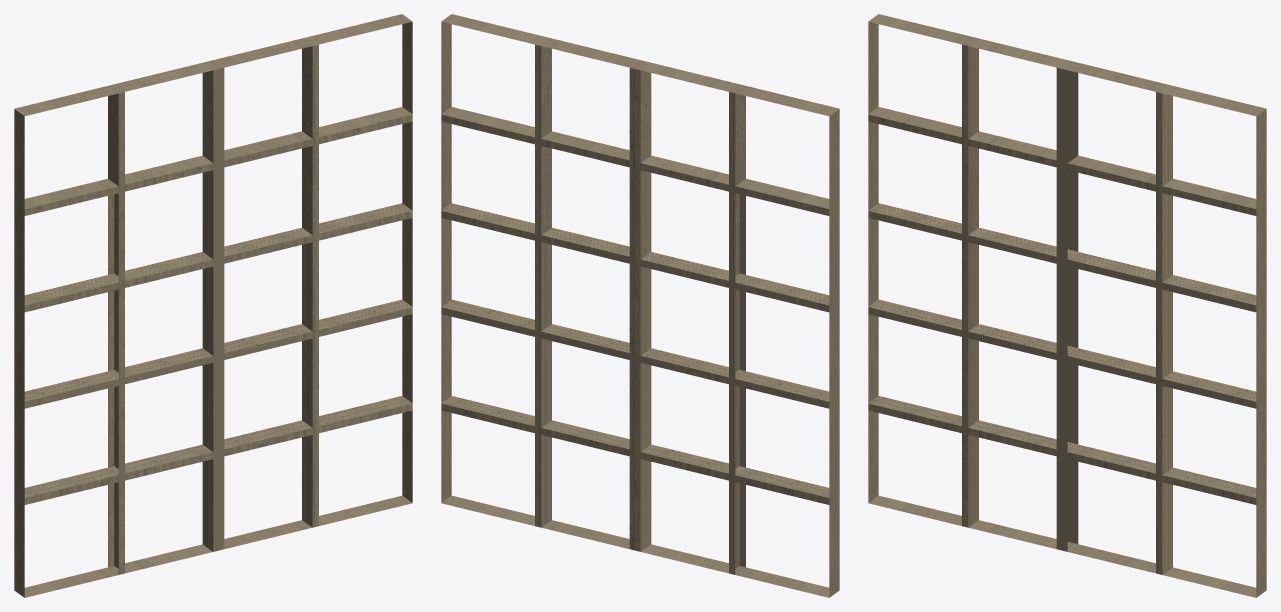
File: marcoVentana.obj
3 renders of one model, left to right at view 1: azimuth 30°, elevation 25°; view 2: azimuth 150°, elevation 25°; view 3: azimuth 330°, elevation 25°, orthographic.
Visible parts, largest first — view 1: Vidrio1_002_Cube_005_Cube_003_None; view 2: Vidrio1_002_Cube_005_Cube_003_None; view 3: Vidrio1_002_Cube_005_Cube_003_None.
Part boxes in pixels (bbox=[...]): Vidrio1_002_Cube_005_Cube_003_None: bbox=[14, 14, 412, 597]; Vidrio1_002_Cube_005_Cube_003_None: bbox=[441, 14, 839, 597]; Vidrio1_002_Cube_005_Cube_003_None: bbox=[868, 14, 1266, 597].
Bounding box in the file's own units: 9.61 × 11.39 × 0.4496.
Materials: 1 (1 with a texture image).
